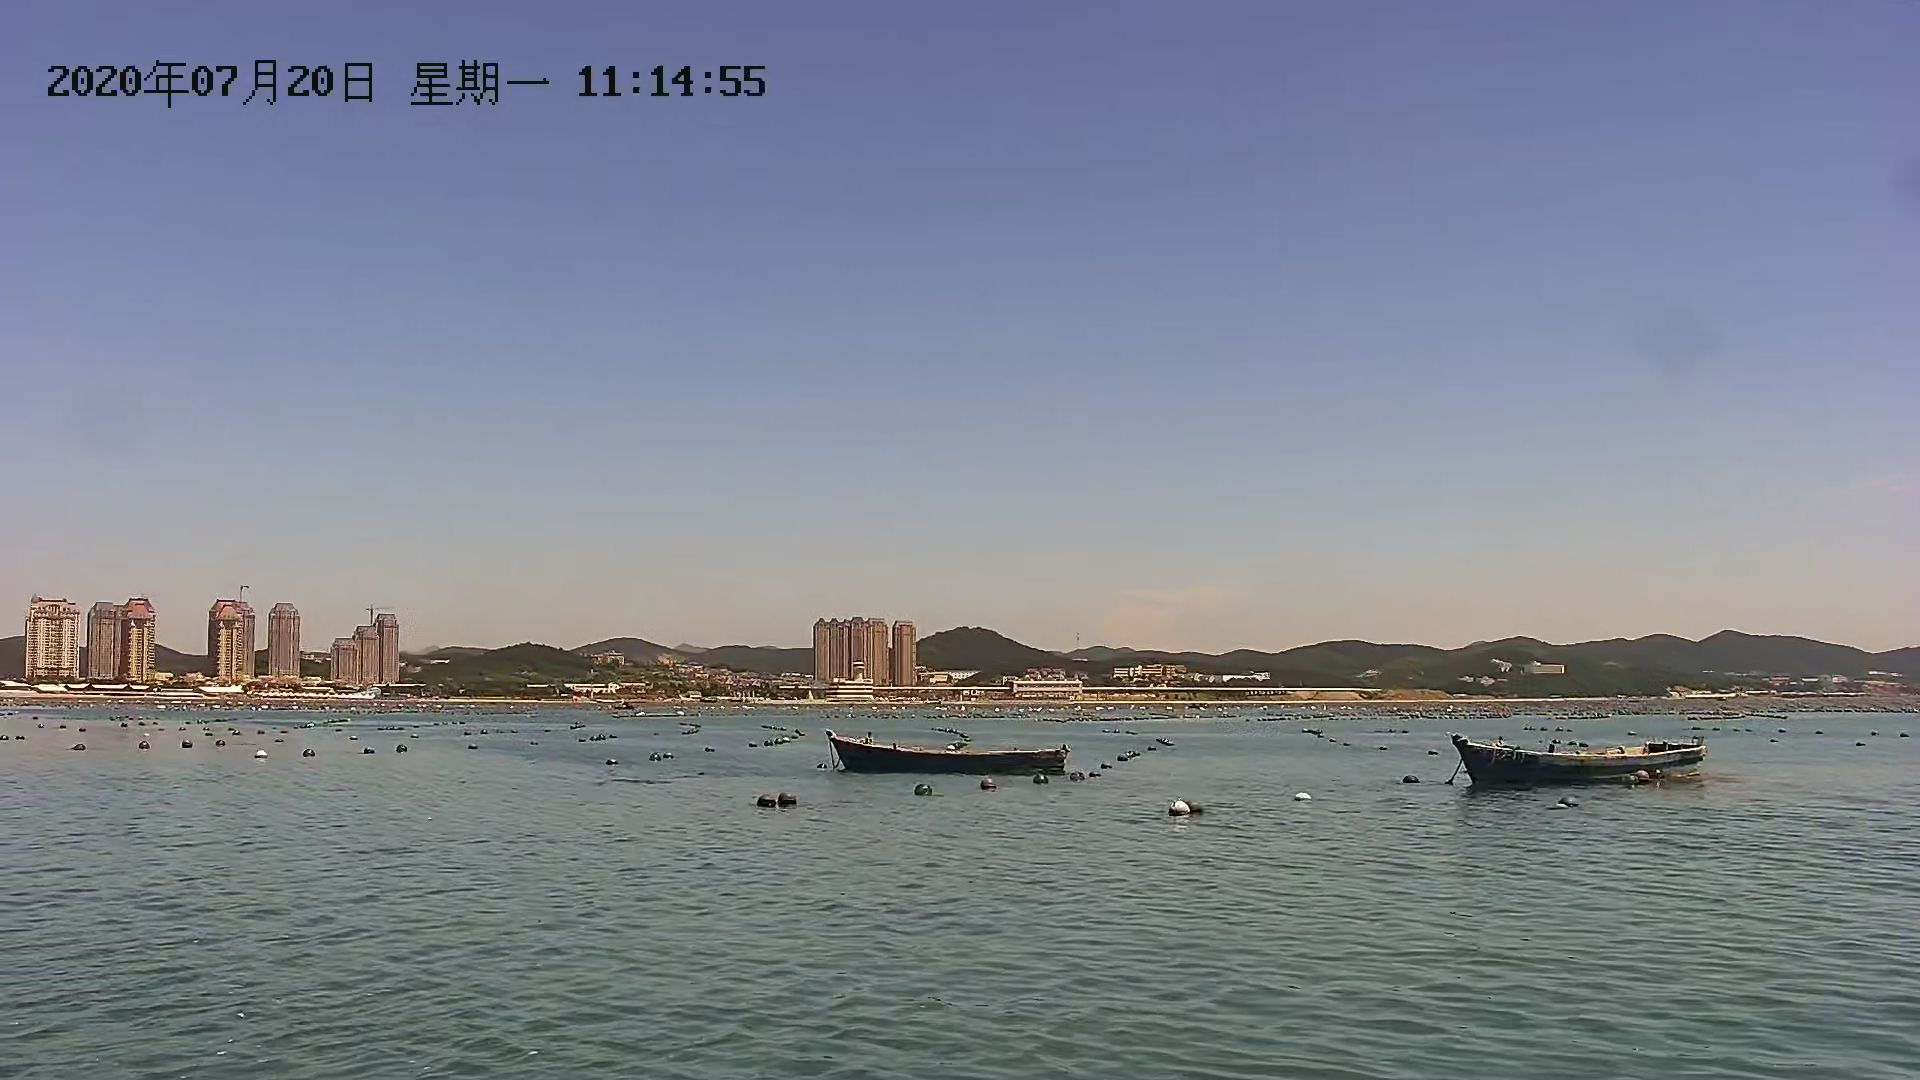ball: (1166, 795, 1215, 820), (778, 794, 803, 814), (1033, 767, 1051, 789), (754, 795, 781, 810), (1288, 790, 1313, 804), (918, 782, 938, 796), (978, 779, 1000, 791), (1399, 775, 1418, 785)
boat: (1445, 721, 1712, 791), (808, 738, 1085, 779)
